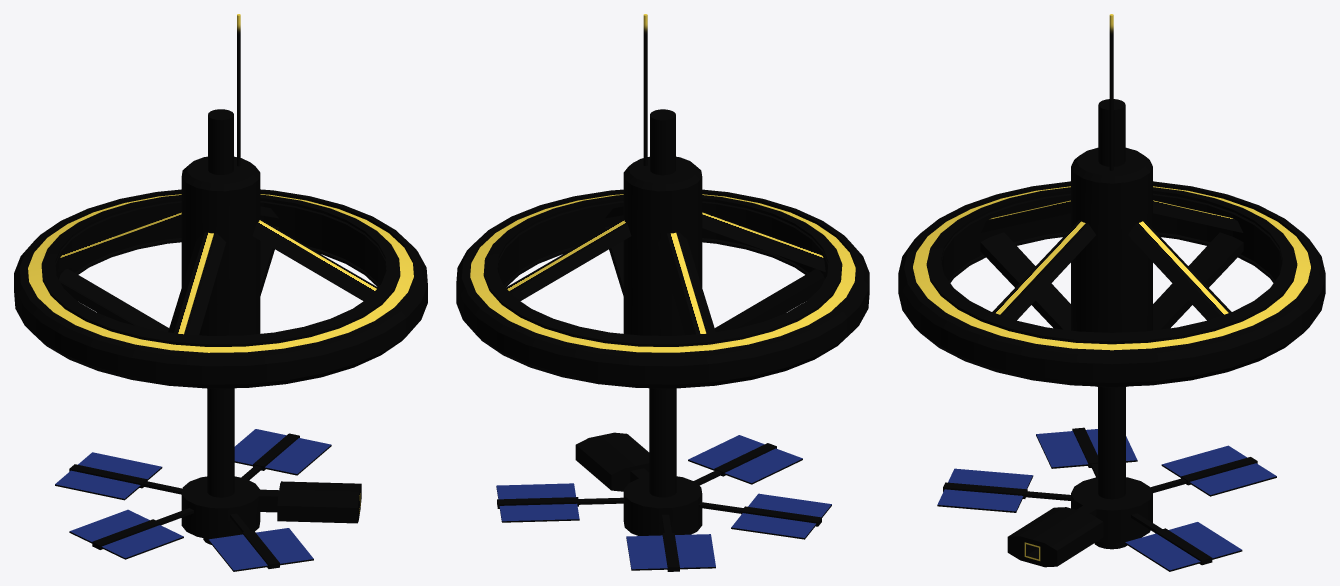
Rendered from station.gltf.
3 renders of one model, left to right at view 1: azimuth 30°, elevation 25°; view 2: azimuth 150°, elevation 25°; view 3: azimuth 270°, elevation 25°, orthographic. The views are drawn at different scales.
Visible parts, largest first — view 1: Inner, Outer; view 2: Inner, Outer; view 3: Inner, Outer.
Part boxes in pixels (x1,y1,x2,y2): Inner: (55, 14, 386, 571); Outer: (14, 189, 427, 388); Inner: (496, 14, 831, 571); Outer: (456, 189, 869, 388); Inner: (937, 14, 1282, 571); Outer: (898, 181, 1325, 386).
Bounding box in the file's own units: 10.45 × 14.45 × 10.45.
Materials: 2 (2 with a texture image).
